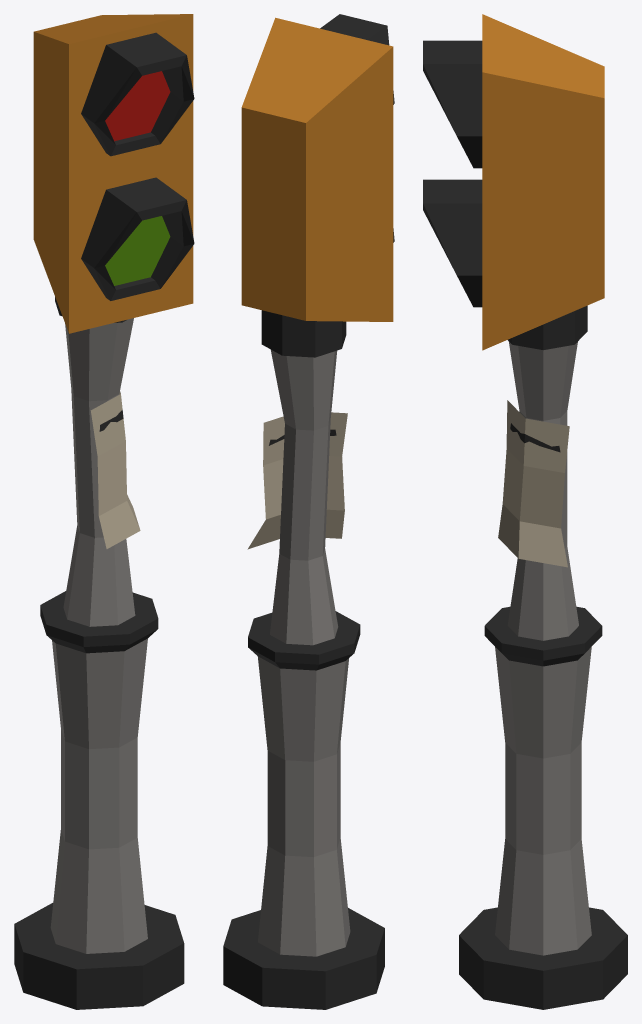
Rendered from Traffic_light_A_01.FBX.
3 views of the same model, side by side, from view 1: azimuth 30°, elevation 25°; view 2: azimuth 150°, elevation 25°; view 3: azimuth 270°, elevation 25° (orthographic). The views are drawn at different scales.
Parts seen in each view (by area): view 1: Traffic_light_A_01; view 2: Traffic_light_A_01; view 3: Traffic_light_A_01.
Part boxes in pixels (<box>): Traffic_light_A_01: <box>14,14,194,1009</box>; Traffic_light_A_01: <box>223,14,394,1009</box>; Traffic_light_A_01: <box>423,14,627,1009</box>.
Bounding box in the file's own units: 0.5874 × 3.57 × 0.7118.
